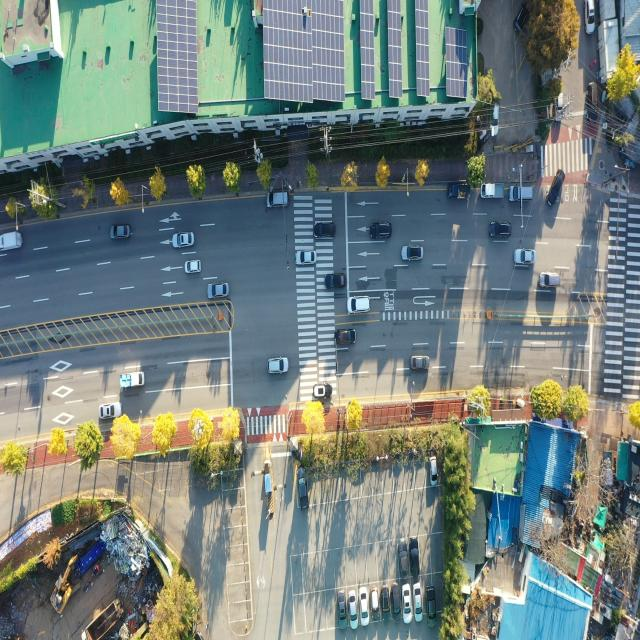car: (547, 166, 567, 207), (586, 82, 598, 124), (347, 296, 370, 316), (298, 466, 308, 512), (510, 184, 534, 203), (398, 539, 408, 582), (490, 222, 512, 241), (370, 220, 392, 239), (411, 537, 421, 578), (268, 356, 290, 374), (268, 192, 290, 210), (514, 248, 536, 266), (538, 271, 560, 289), (335, 327, 357, 345), (400, 245, 423, 262), (584, 0, 595, 35), (414, 584, 424, 622), (270, 362, 291, 380), (324, 273, 345, 291), (208, 282, 230, 299), (100, 404, 122, 421), (172, 234, 195, 250), (348, 592, 358, 628), (427, 586, 436, 626), (359, 587, 368, 626), (402, 584, 411, 623), (338, 595, 348, 630), (411, 354, 431, 371), (295, 249, 316, 265), (318, 222, 339, 238), (391, 586, 400, 621), (491, 102, 500, 136), (382, 586, 391, 618), (111, 224, 130, 239), (429, 457, 438, 486), (556, 96, 566, 122), (313, 384, 330, 399), (185, 261, 201, 275), (370, 587, 378, 614)
small_truck: (602, 449, 614, 488), (0, 232, 22, 253), (121, 372, 146, 390), (480, 181, 505, 199), (448, 182, 471, 200)
